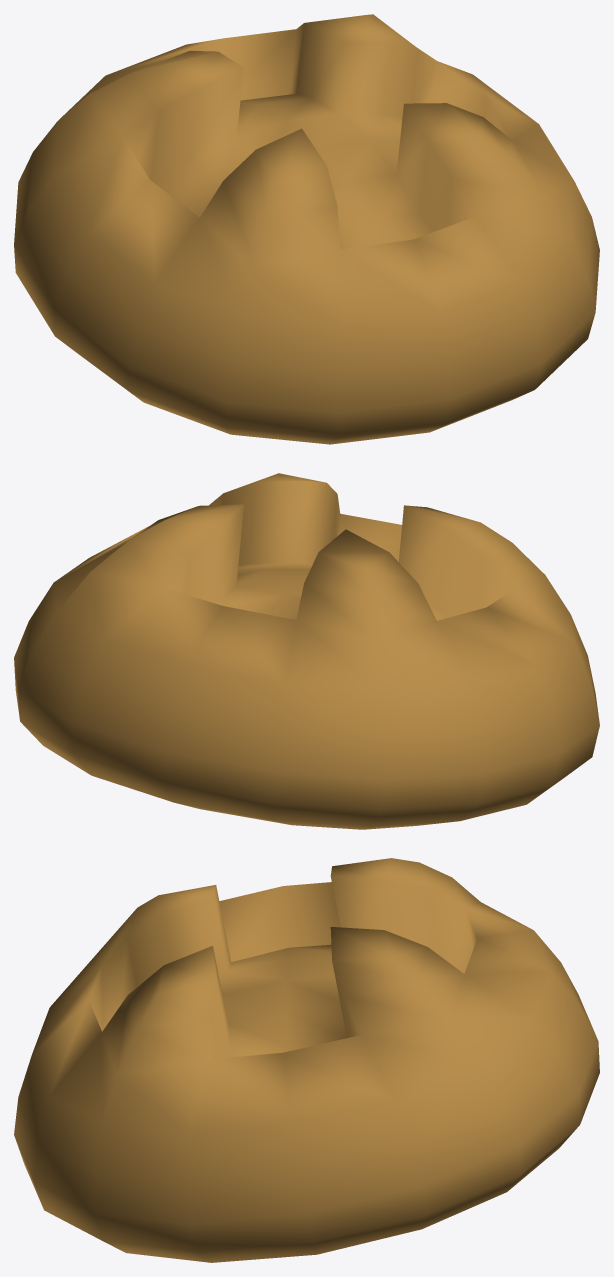
The model's file is Bread03.fbx.
3 views of the same model, one above another, from view 1: azimuth 30°, elevation 25°; view 2: azimuth 150°, elevation 25°; view 3: azimuth 270°, elevation 25° (orthographic).
Visible parts, largest first — view 1: Bread.001; view 2: Bread.001; view 3: Bread.001.
Boxes of the visible parts, x1,y1,x2,y2 form: Bread.001: (14, 14, 599, 444); Bread.001: (14, 473, 599, 829); Bread.001: (14, 858, 599, 1262).
Bounding box in the file's own units: 14.38 × 7.79 × 14.2.
